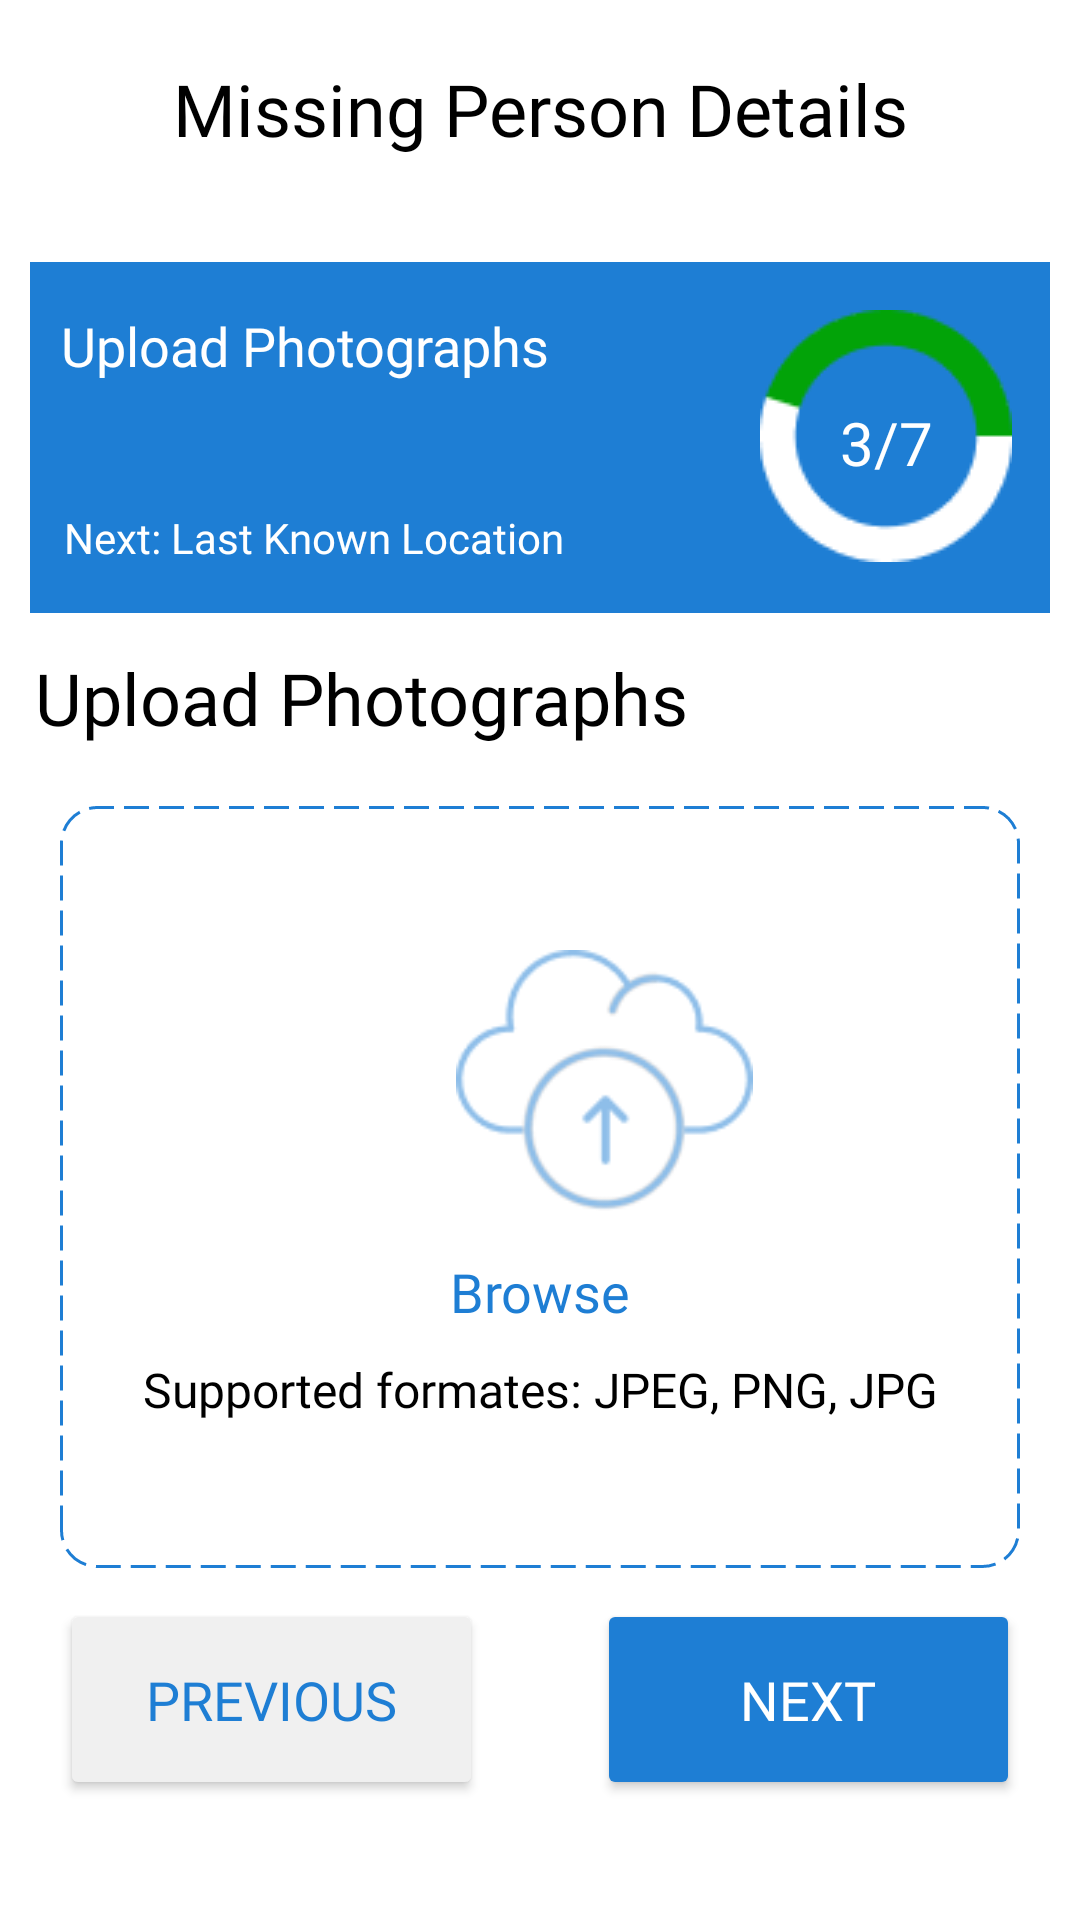

Icon bounding boxes for this 1080*1920 phone screenshot, format (x1, y1, x2, y2):
step: (760, 310, 1012, 562)
uploader: (456, 950, 753, 1209)
